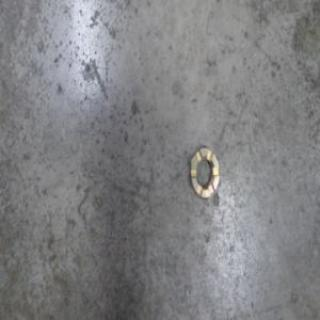Nuttrack_idkeyframe: (188, 142, 219, 201)
